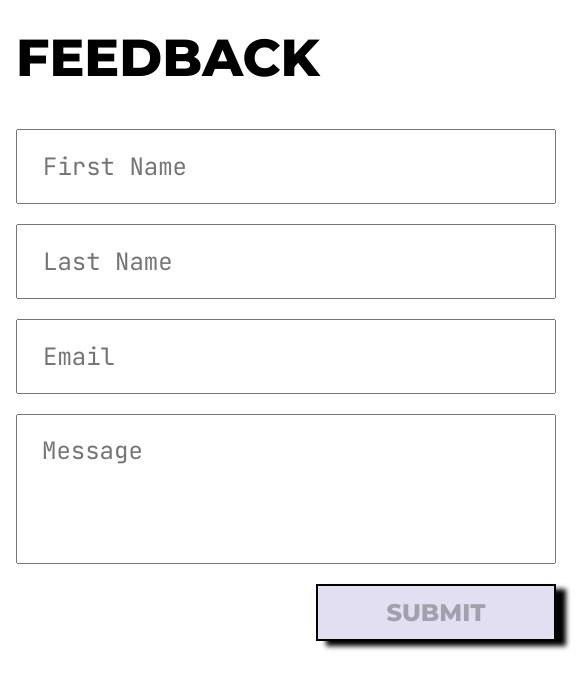
form component › should show error about message length
Type "Hello" into the text box named "textarea" at (286, 488), box [16, 414, 556, 564]
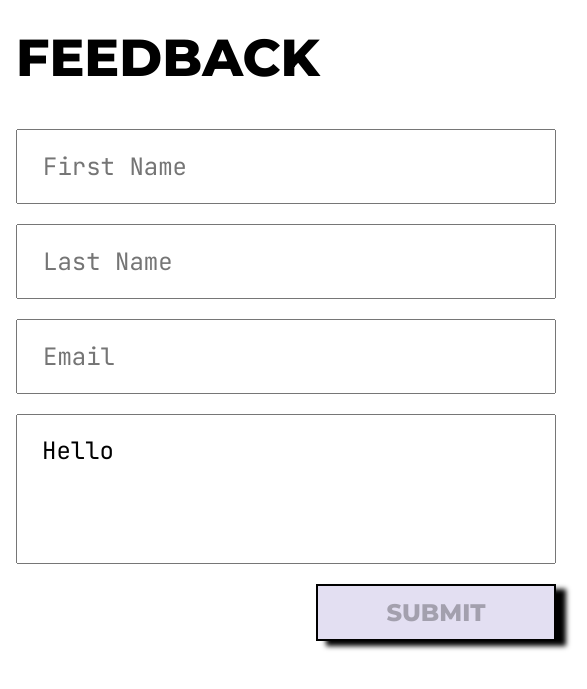
Press Tab
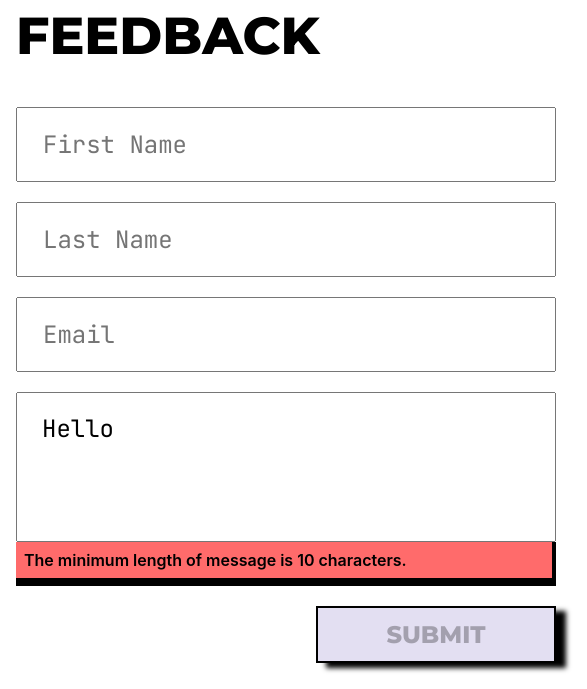
Check: the text "The minimum length of message is 10 characters." is shown, box [16, 542, 556, 586]
